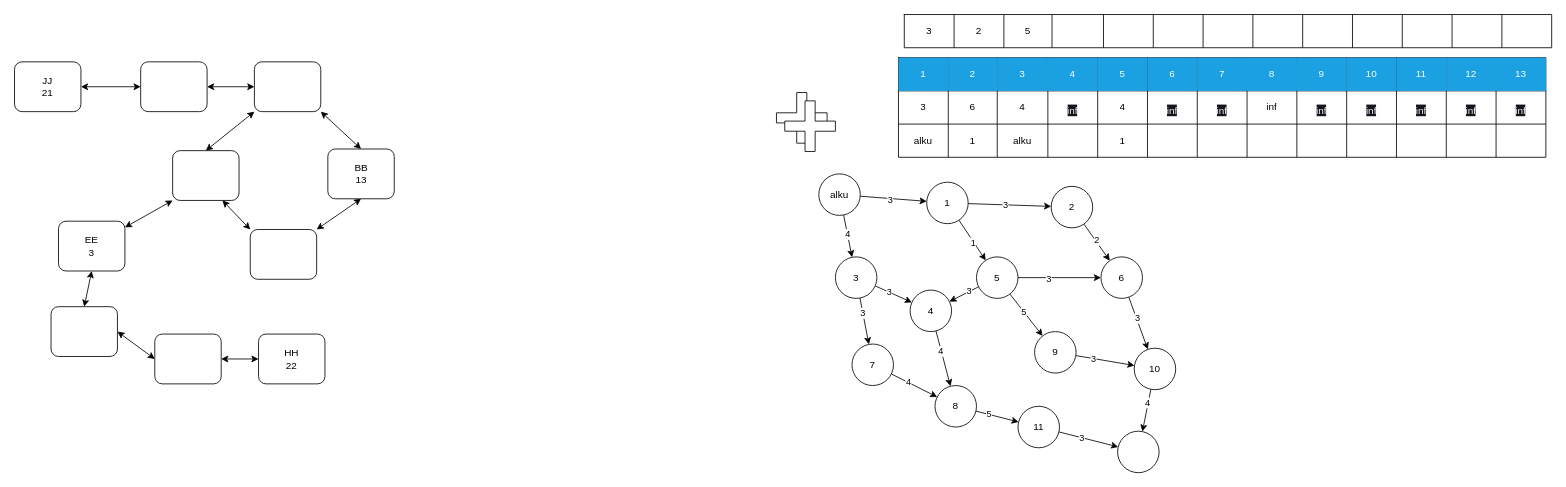
The diagram is 1566 pixels wide and 487 high, and some of its shapes have lost their labels. Each missing label, with the centre of its shape:
AA 0: point 287,86
CC 2: point 283,254
DD 20: point 205,175
FF 0: point 83,331
GG 0: point 187,358
II 0: point 173,86
loppu: point 1138,451
